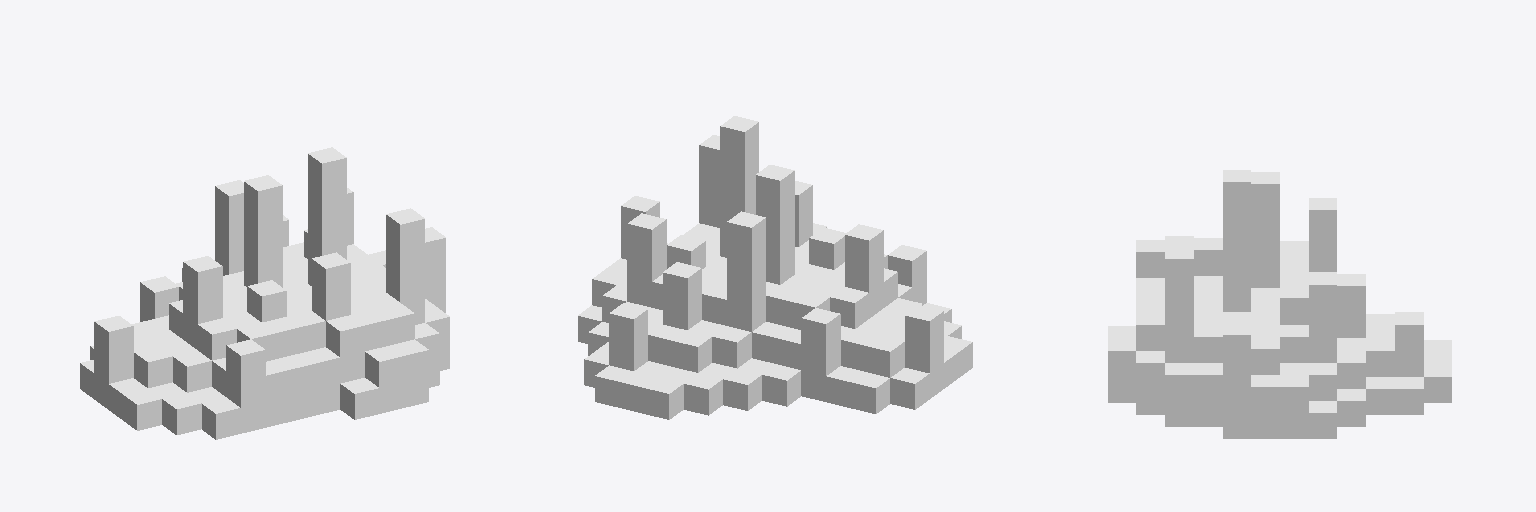
Rendered from BismuthDeposit_M.obj.
3 views of the same model, side by side, from view 1: azimuth 30°, elevation 25°; view 2: azimuth 150°, elevation 25°; view 3: azimuth 270°, elevation 25° (orthographic).
Parts seen in each view (by area): view 1: BismuthDeposit_M; view 2: BismuthDeposit_M; view 3: BismuthDeposit_M.
Boxes of the visible parts, x1=… form: BismuthDeposit_M: x1=80, y1=147, x2=449, y2=439; BismuthDeposit_M: x1=578, y1=116, x2=972, y2=419; BismuthDeposit_M: x1=1108, y1=170, x2=1451, y2=438.
Bounding box in the file's own units: 1.3 × 0.8 × 1.2.